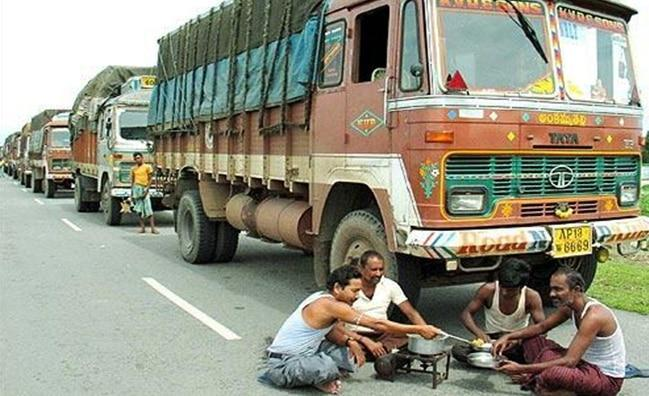truck: (146, 0, 649, 249)
